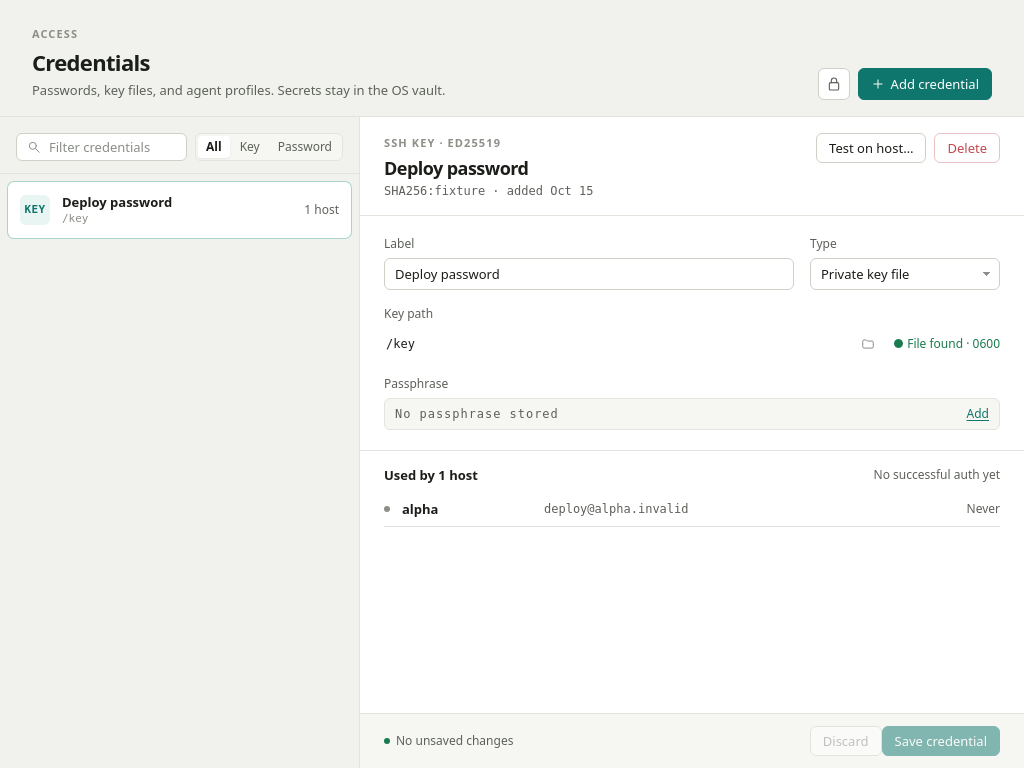
Test: clears validated key metadata immediately when the key path changes
Expected: the text "● File found · 0600" is shown, [893,336,1000,352]
Replace the text in the field named "Private key path" with "/other" at coordinates (619, 344), box [384,328,853,360]
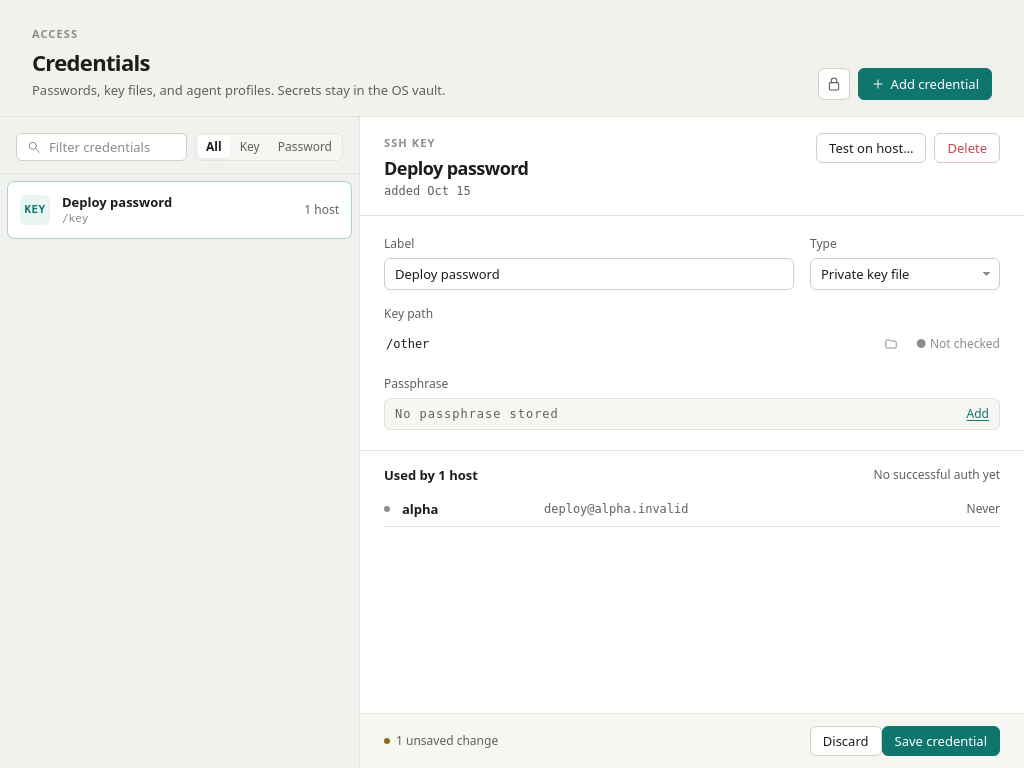
Expected: the text "File found · 0600" is gone
Expected: the text "● Not checked" is shown, [916,336,1000,352]
